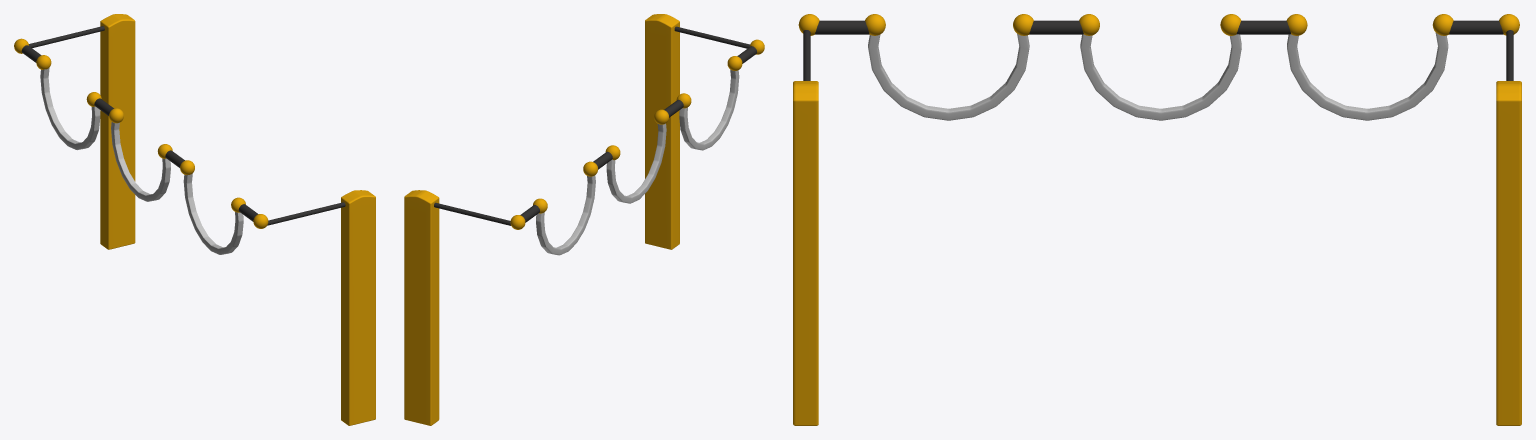
3 renders of one model, left to right at view 1: azimuth 30°, elevation 25°; view 2: azimuth 150°, elevation 25°; view 3: azimuth 270°, elevation 25°, orthographic. The views are drawn at different scales.
Parts seen in each view (by area): view 1: polySurface89, polySurface90; view 2: polySurface89, polySurface90; view 3: polySurface89, polySurface90.
Boxes of the visible parts, x1=… form: polySurface89: x1=14, y1=14, x2=375, y2=425; polySurface90: x1=36, y1=55, x2=245, y2=254; polySurface89: x1=404, y1=14, x2=764, y2=425; polySurface90: x1=533, y1=56, x2=742, y2=255; polySurface89: x1=793, y1=14, x2=1521, y2=425; polySurface90: x1=865, y1=14, x2=1453, y2=120.
Size of the model in its own units: 3.24 by 6.06 by 12.02.
